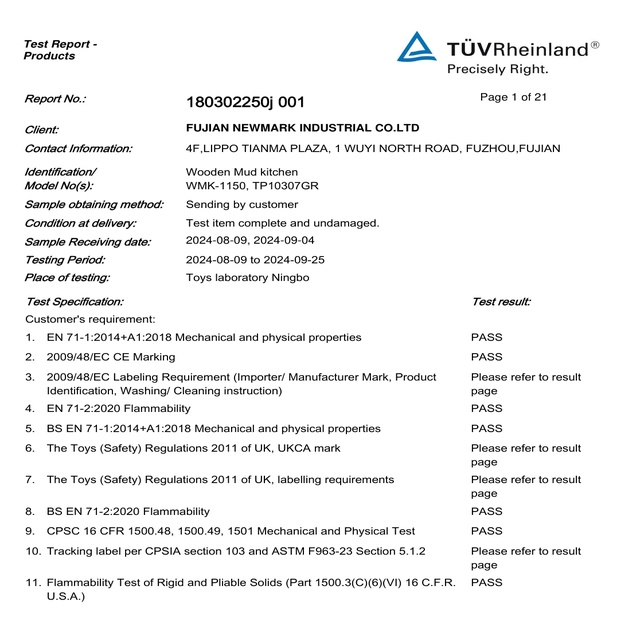tuv_rheinland: (393, 29, 605, 64)
